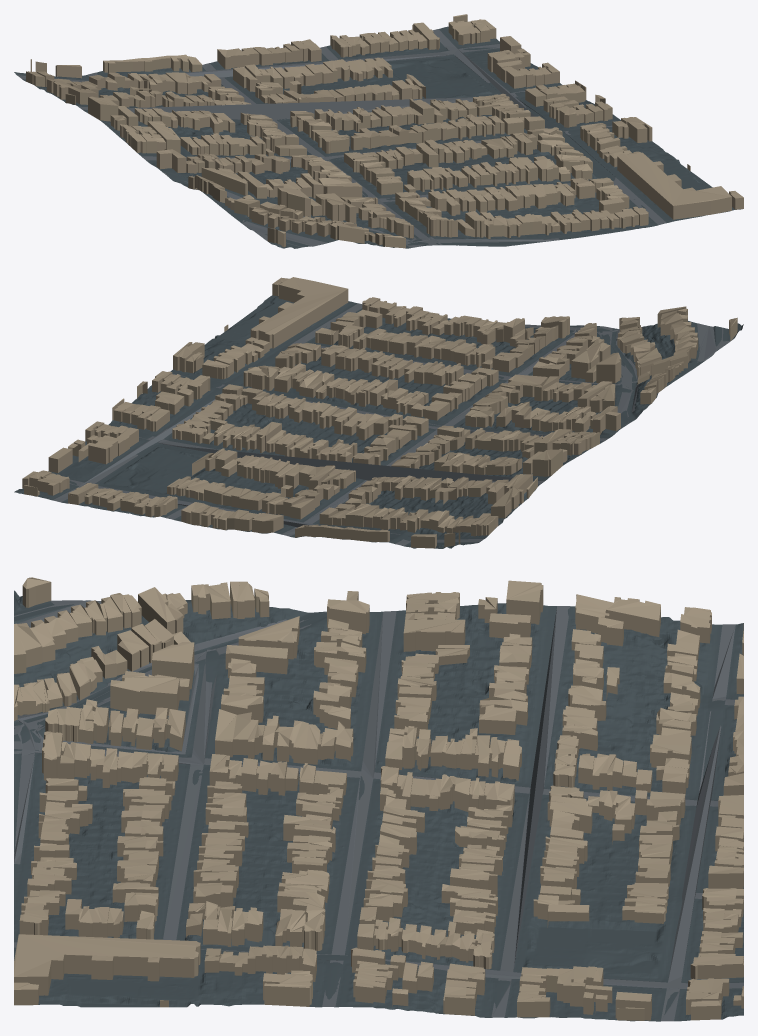
File: epsg26910-1430-10881.lod0.glb
The picture shows the model from 3 angles, top to bottom: view 1: azimuth 30°, elevation 25°; view 2: azimuth 150°, elevation 25°; view 3: azimuth 270°, elevation 25°; orthographic projection. The views are drawn at different scales.
Visible parts, largest first — view 1: epsg26910-1430-10881-lod0; view 2: epsg26910-1430-10881-lod0; view 3: epsg26910-1430-10881-lod0.
Boxes of the visible parts, x1=… form: epsg26910-1430-10881-lod0: x1=14, y1=14, x2=743, y2=248; epsg26910-1430-10881-lod0: x1=14, y1=277, x2=743, y2=548; epsg26910-1430-10881-lod0: x1=14, y1=577, x2=743, y2=1021.
Bounding box in the file's own units: 384 × 79.11 × 384.
